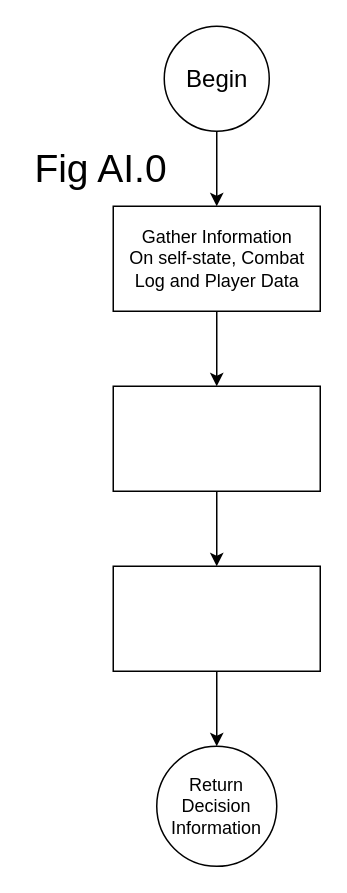
Image size: 347x893. Some labels were removed from this diagram. Here are the shapes that lost their labels. From the top down, the centre of each, then its label:
At point 216,438: "Decide on current AI State based on Gathered Information".
At point 216,618: "Generate Target Decision based on Gathered Information".
